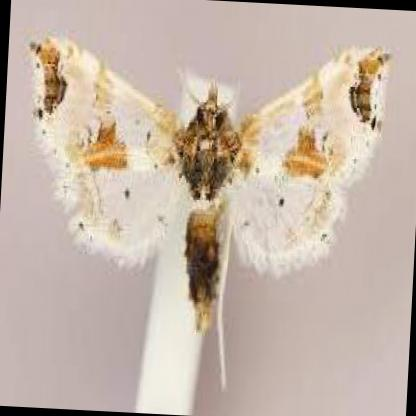leucinodes: (29, 37, 388, 329)
